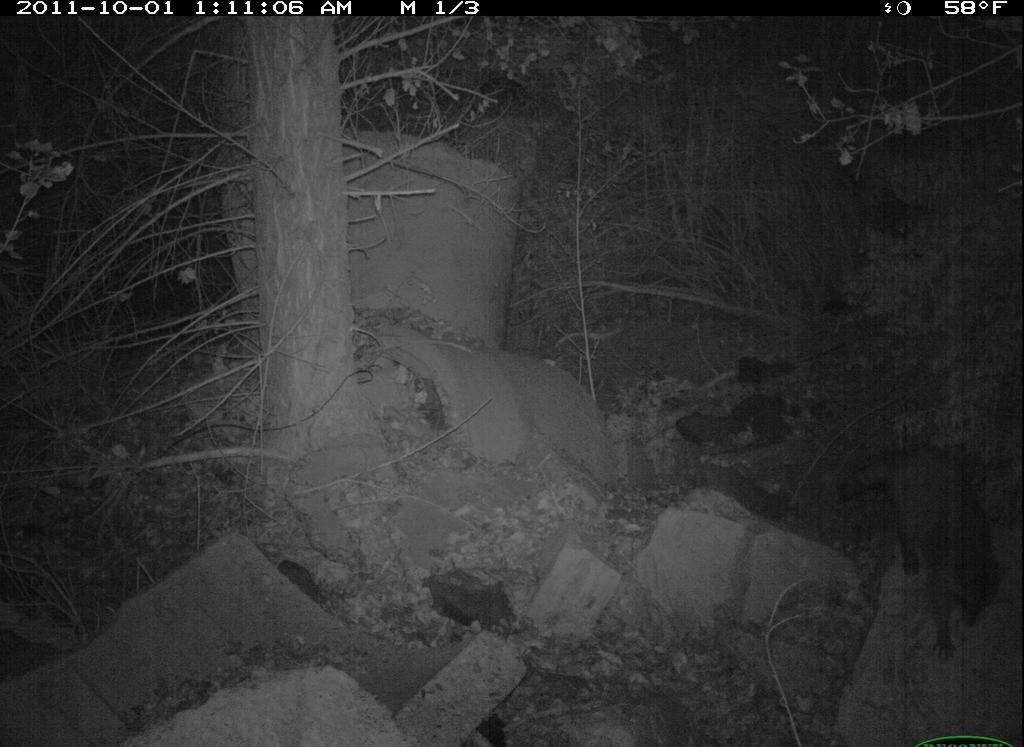raccoon: (827, 442, 1001, 669)
